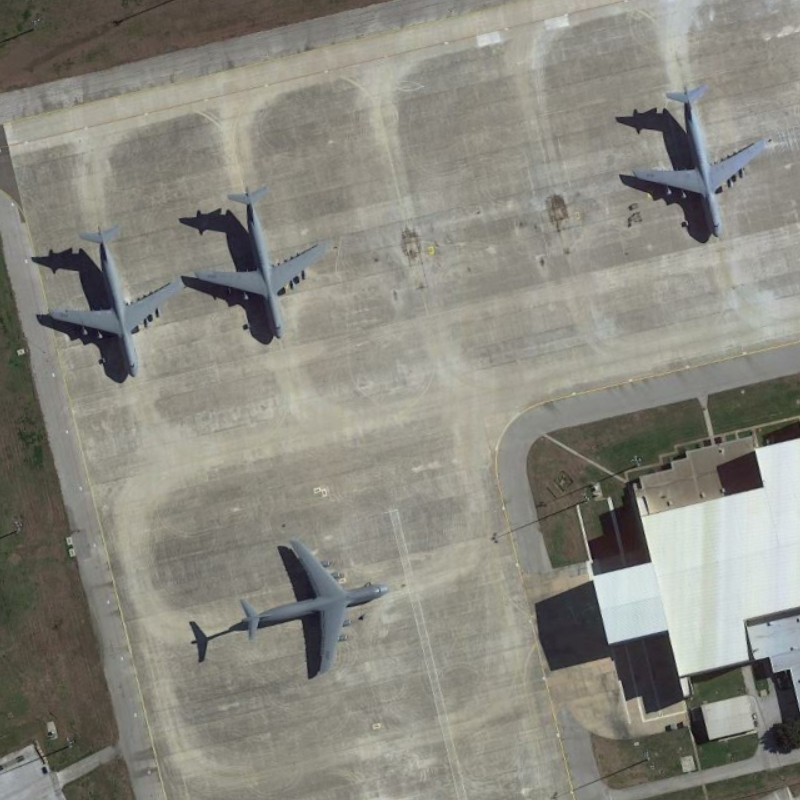A4: (619, 78, 768, 244), (233, 533, 394, 678), (46, 215, 182, 383), (190, 181, 328, 346)
